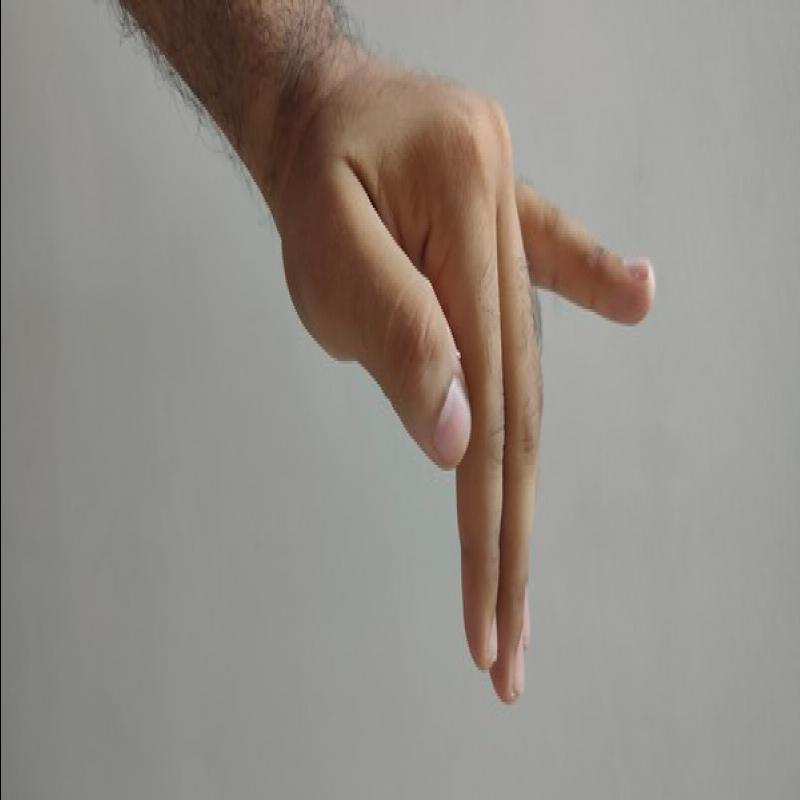Kartharee Mukham: (244, 47, 660, 713)
